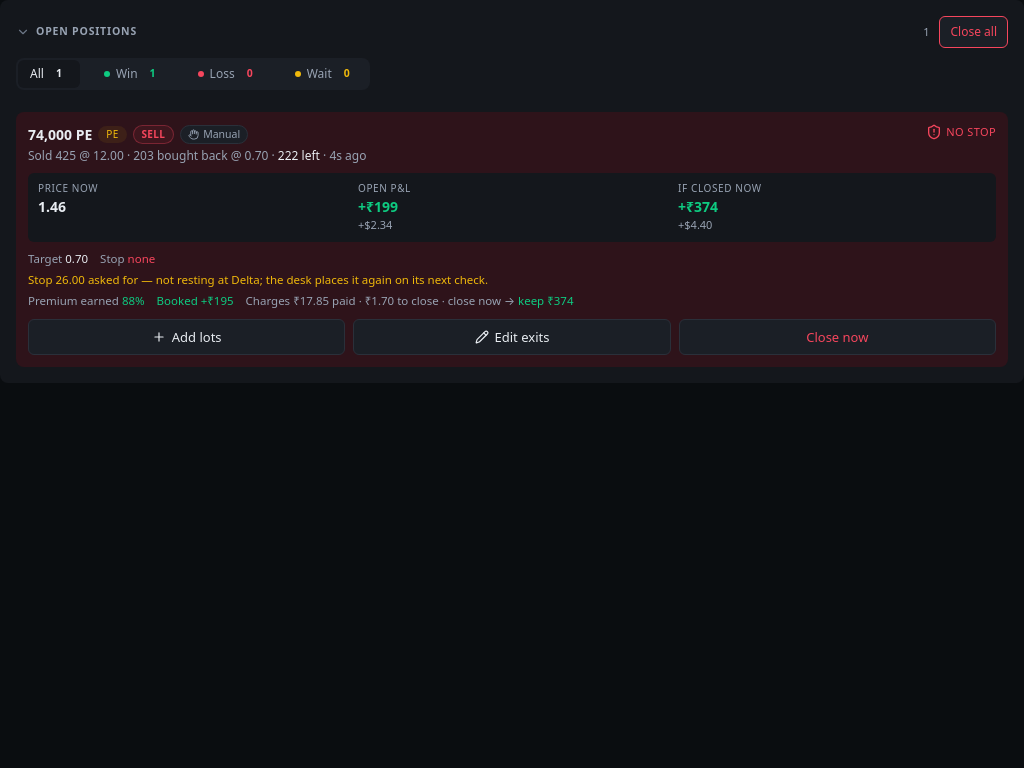
Test: closing out › Half fills in half of what is held, and All puts it back
The image size is (1024, 768).
Click the button "Close now".
click(837, 337)  # box [679,319,996,355]
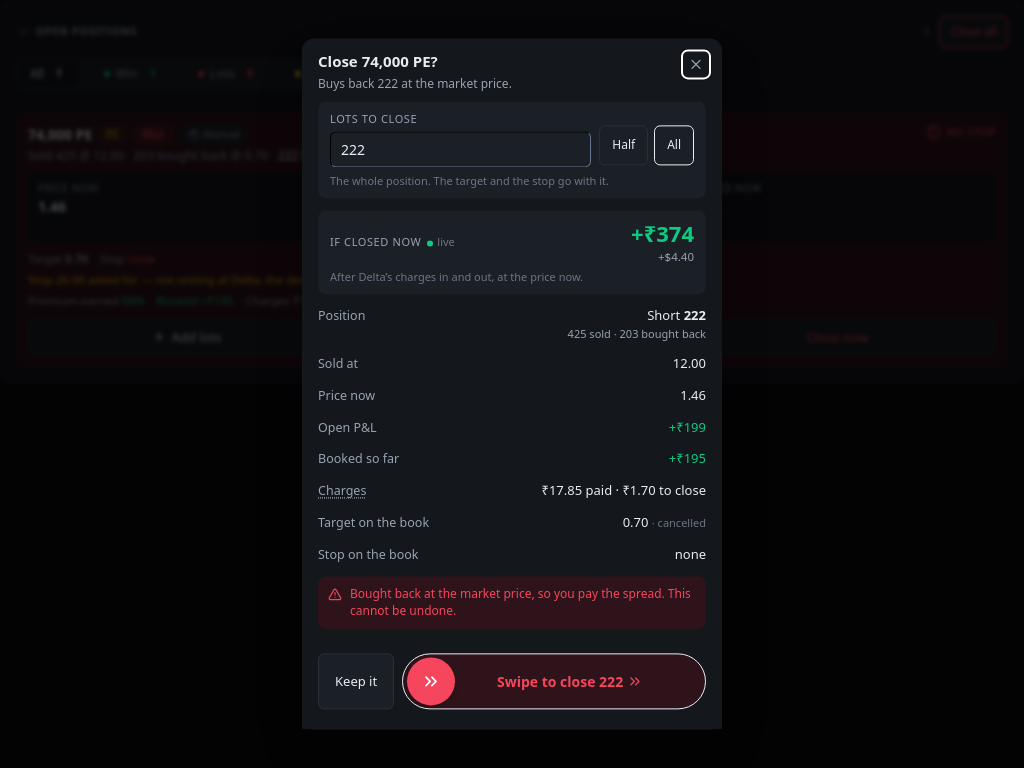
Click the button "Half".
click(624, 145)  # box [599,125,648,165]
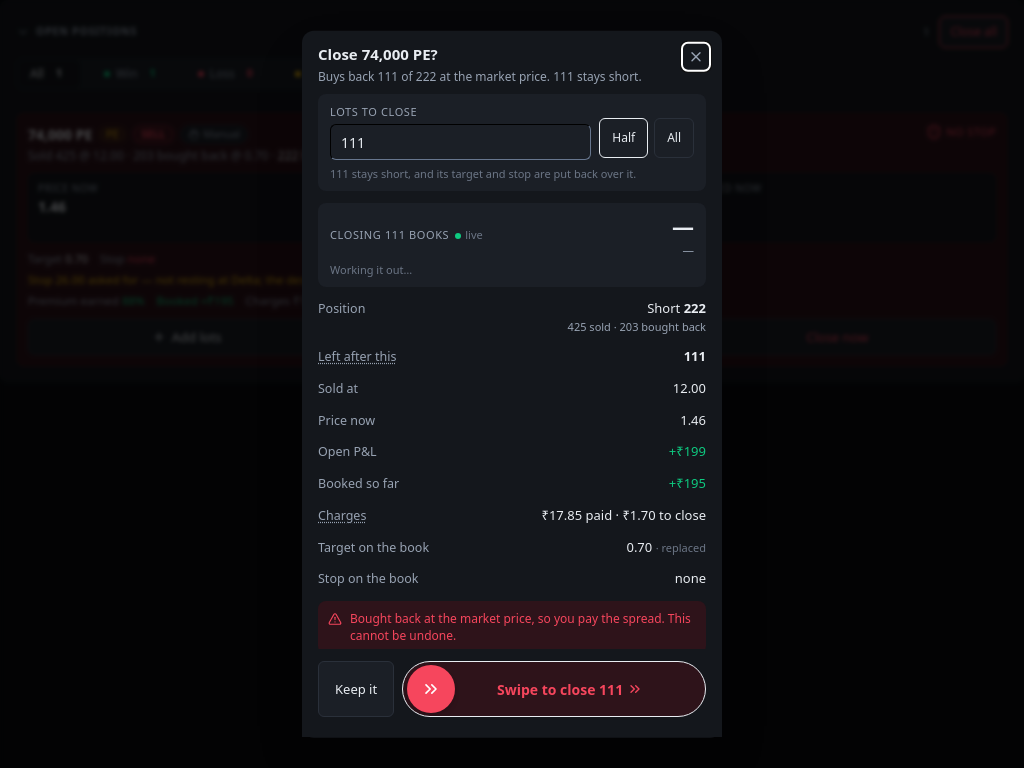
Expected: the field labelled "Lots to close" holds "111", [330,124,591,160]
Click the button "All".
click(674, 138)  # box [654,118,694,158]
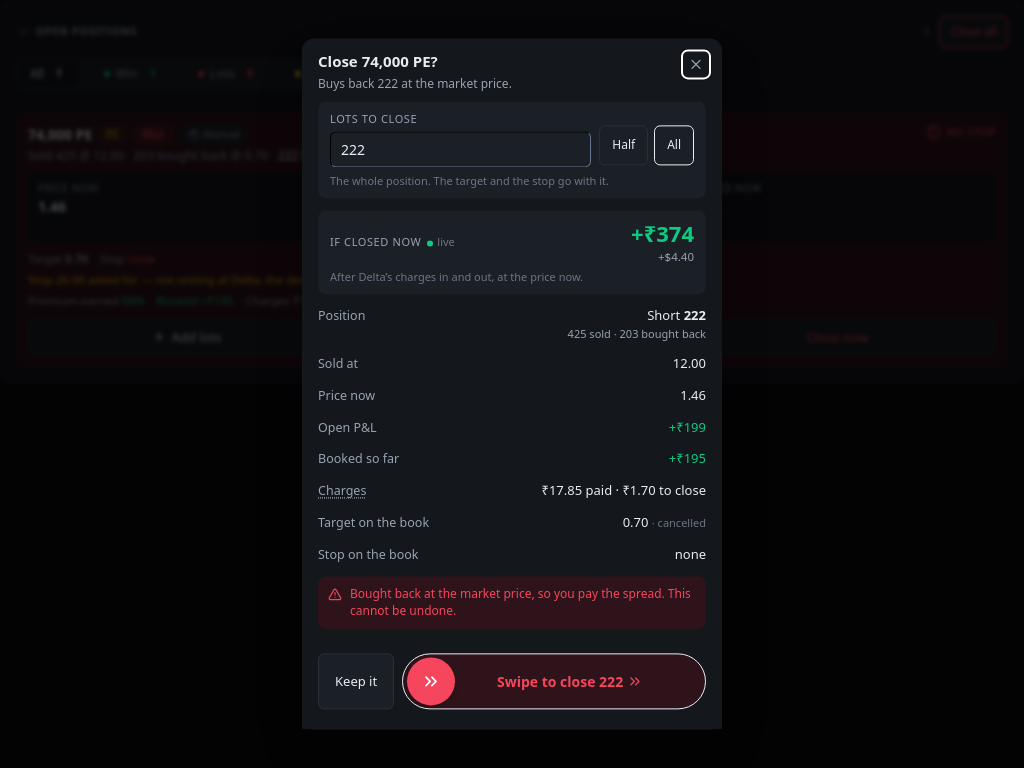
Expected: the field labelled "Lots to close" holds "222", [330,131,591,167]
